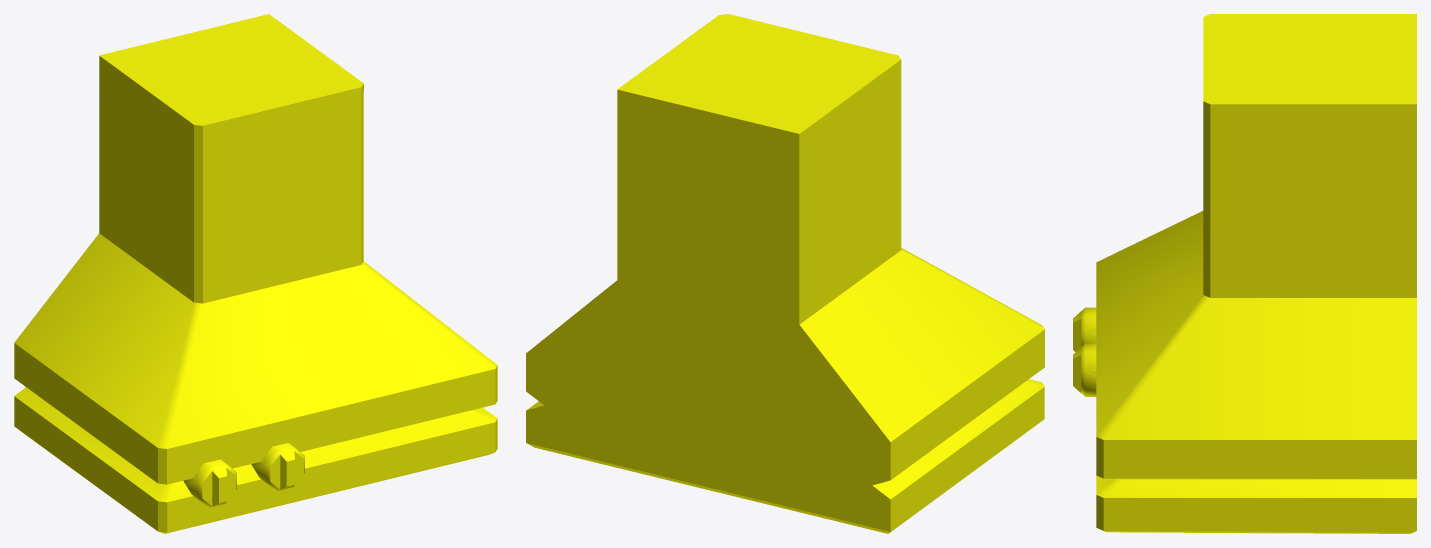
Rendered from extractorhood.gltf.
3 renders of one model, left to right at view 1: azimuth 30°, elevation 25°; view 2: azimuth 150°, elevation 25°; view 3: azimuth 270°, elevation 25°, orthographic. The views are drawn at different scales.
Parts seen in each view (by area): view 1: extractorhood; view 2: extractorhood; view 3: extractorhood.
Part boxes in pixels (bbox=[...]): extractorhood: bbox=[14, 14, 497, 533]; extractorhood: bbox=[526, 14, 1044, 533]; extractorhood: bbox=[1073, 14, 1416, 533].
Bounding box in the file's own units: 2 × 2 × 1.61.
1 material, 1 textured.
